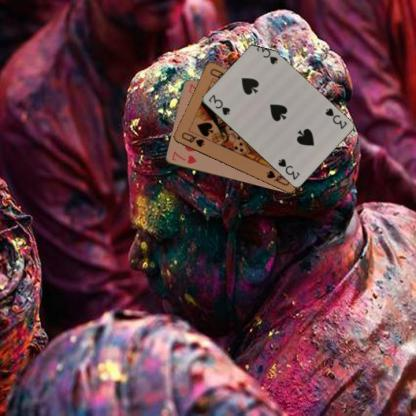3s: (322, 105, 348, 131), (206, 92, 231, 117)
7h: (169, 149, 198, 165)
Qs: (178, 130, 206, 148)
